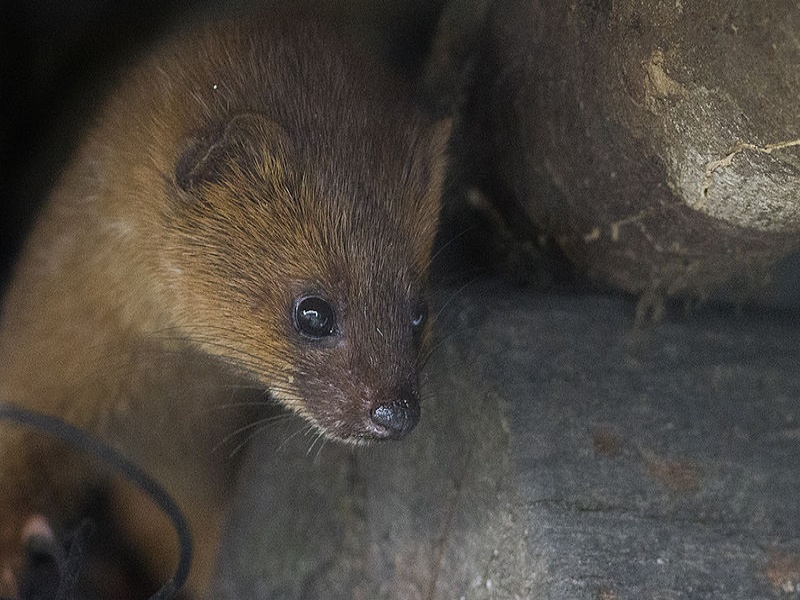minkish: (19, 26, 453, 462)
